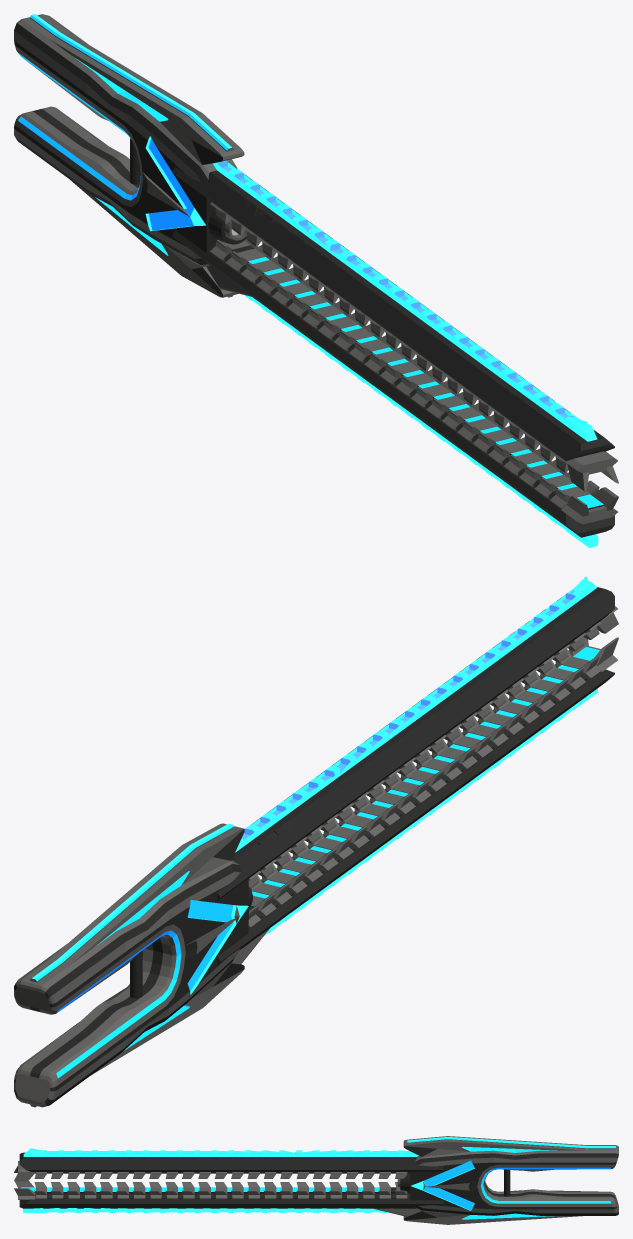
The model's file is RAil_gun_1.fbx.
3 views of the same model, one above another, from view 1: azimuth 30°, elevation 25°; view 2: azimuth 150°, elevation 25°; view 3: azimuth 270°, elevation 25° (orthographic). The views are drawn at different scales.
Parts seen in each view (by area): view 1: Cube.002, Cylinder, Cube.004, Cube, Cube.001, Cube.006; view 2: Cube.002, Cylinder, Cube.004, Cube, Cube.001, Cube.006; view 3: Cube.002, Cylinder, Cube.004, Cube, Cube.001, Cube.006, Cube.005, Cube.003, Cylinder.002.
Boxes of the visible parts, x1=… form: Cube.002: x1=14, y1=14, x2=244, y2=297; Cylinder: x1=172, y1=166, x2=614, y2=537; Cube.004: x1=210, y1=202, x2=599, y2=508; Cube: x1=213, y1=160, x2=598, y2=547; Cube.001: x1=211, y1=244, x2=603, y2=509; Cube.006: x1=561, y1=451, x2=618, y2=524; Cube.002: x1=14, y1=823, x2=248, y2=1107; Cylinder: x1=217, y1=587, x2=614, y2=964; Cube.004: x1=248, y1=622, x2=601, y2=927; Cube: x1=235, y1=576, x2=597, y2=935; Cube.001: x1=249, y1=647, x2=599, y2=918; Cube.006: x1=568, y1=606, x2=618, y2=672; Cube.002: x1=403, y1=1136, x2=618, y2=1224; Cylinder: x1=19, y1=1152, x2=443, y2=1208; Cube.004: x1=34, y1=1172, x2=407, y2=1198; Cube: x1=23, y1=1148, x2=418, y2=1212; Cube.001: x1=21, y1=1172, x2=410, y2=1198; Cube.006: x1=14, y1=1161, x2=35, y2=1199; Cube.005: x1=373, y1=1208, x2=420, y2=1216; Cube.003: x1=504, y1=1169, x2=510, y2=1196; Cylinder.002: x1=400, y1=1173, x2=410, y2=1191.
Bounding box in the file's own units: 3.26 × 10.26 × 65.22.
